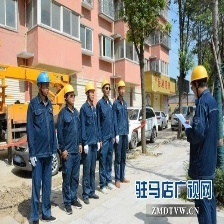helmet: (190, 67, 208, 82), (38, 72, 51, 85), (63, 82, 74, 95), (100, 78, 111, 87), (86, 85, 94, 94), (119, 80, 125, 88)
no-vest: (192, 94, 218, 170), (29, 100, 55, 161), (61, 108, 81, 154), (99, 97, 114, 140), (116, 96, 130, 136), (85, 102, 97, 146)
person: (186, 65, 224, 224), (26, 69, 57, 224), (57, 82, 84, 216), (80, 80, 99, 208), (97, 76, 116, 198), (114, 75, 131, 189)
